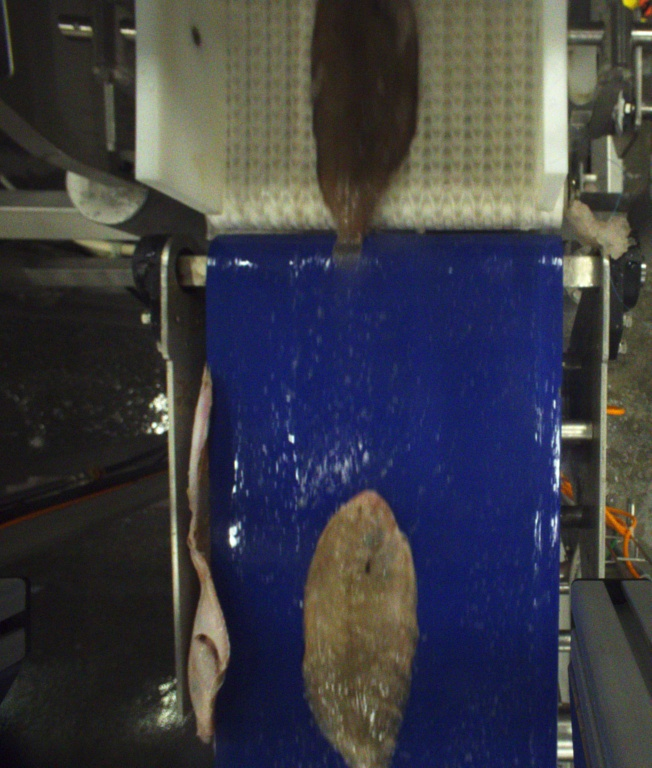SOL: (303, 490, 419, 768)
